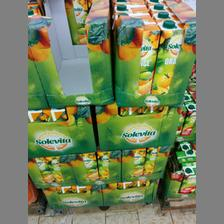Saft: (115, 15, 159, 93), (148, 18, 182, 94)
